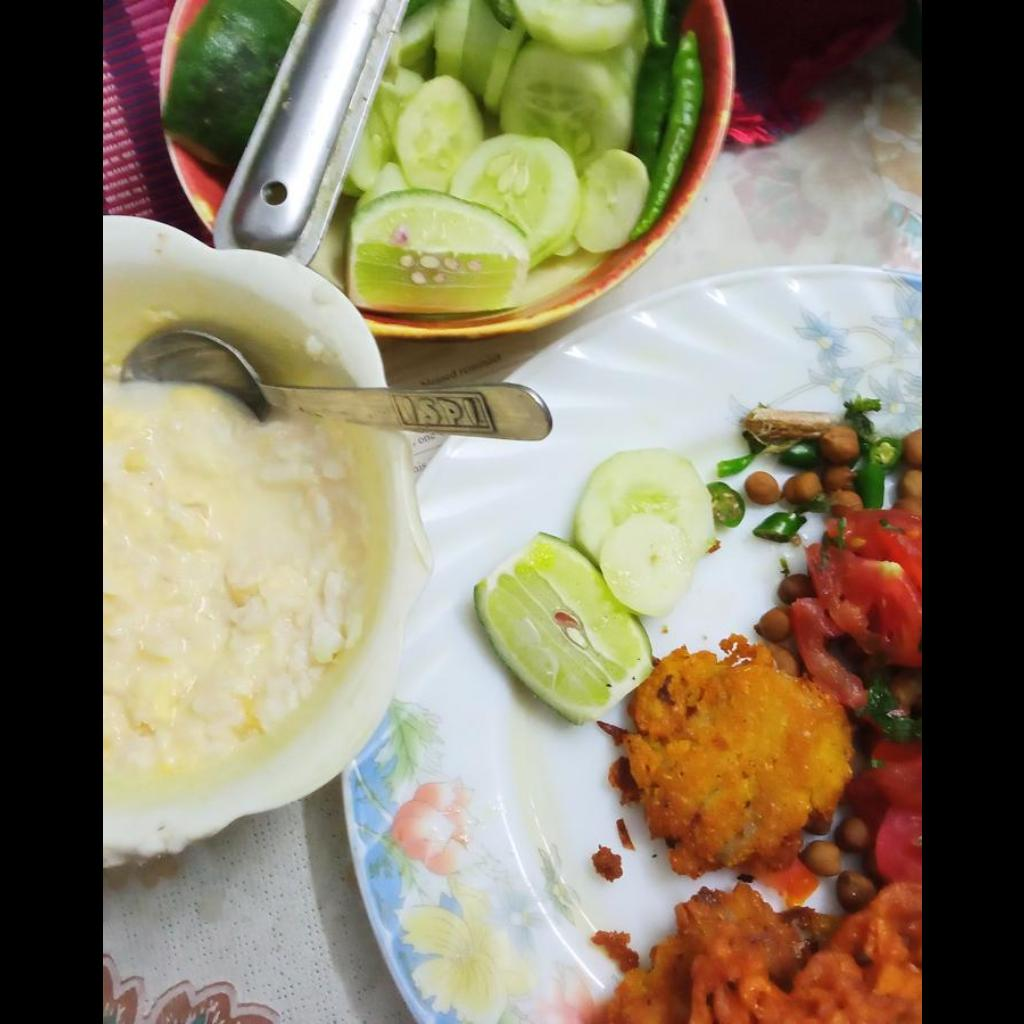chola: (741, 416, 919, 779)
cucumber: (571, 449, 713, 617)
lemon: (475, 535, 648, 725), (161, 0, 305, 170), (348, 189, 529, 313)
payesh: (102, 397, 373, 792)
peyaju: (626, 650, 843, 878)
piyaju: (591, 884, 920, 1023)
salad: (366, 1, 650, 252)
